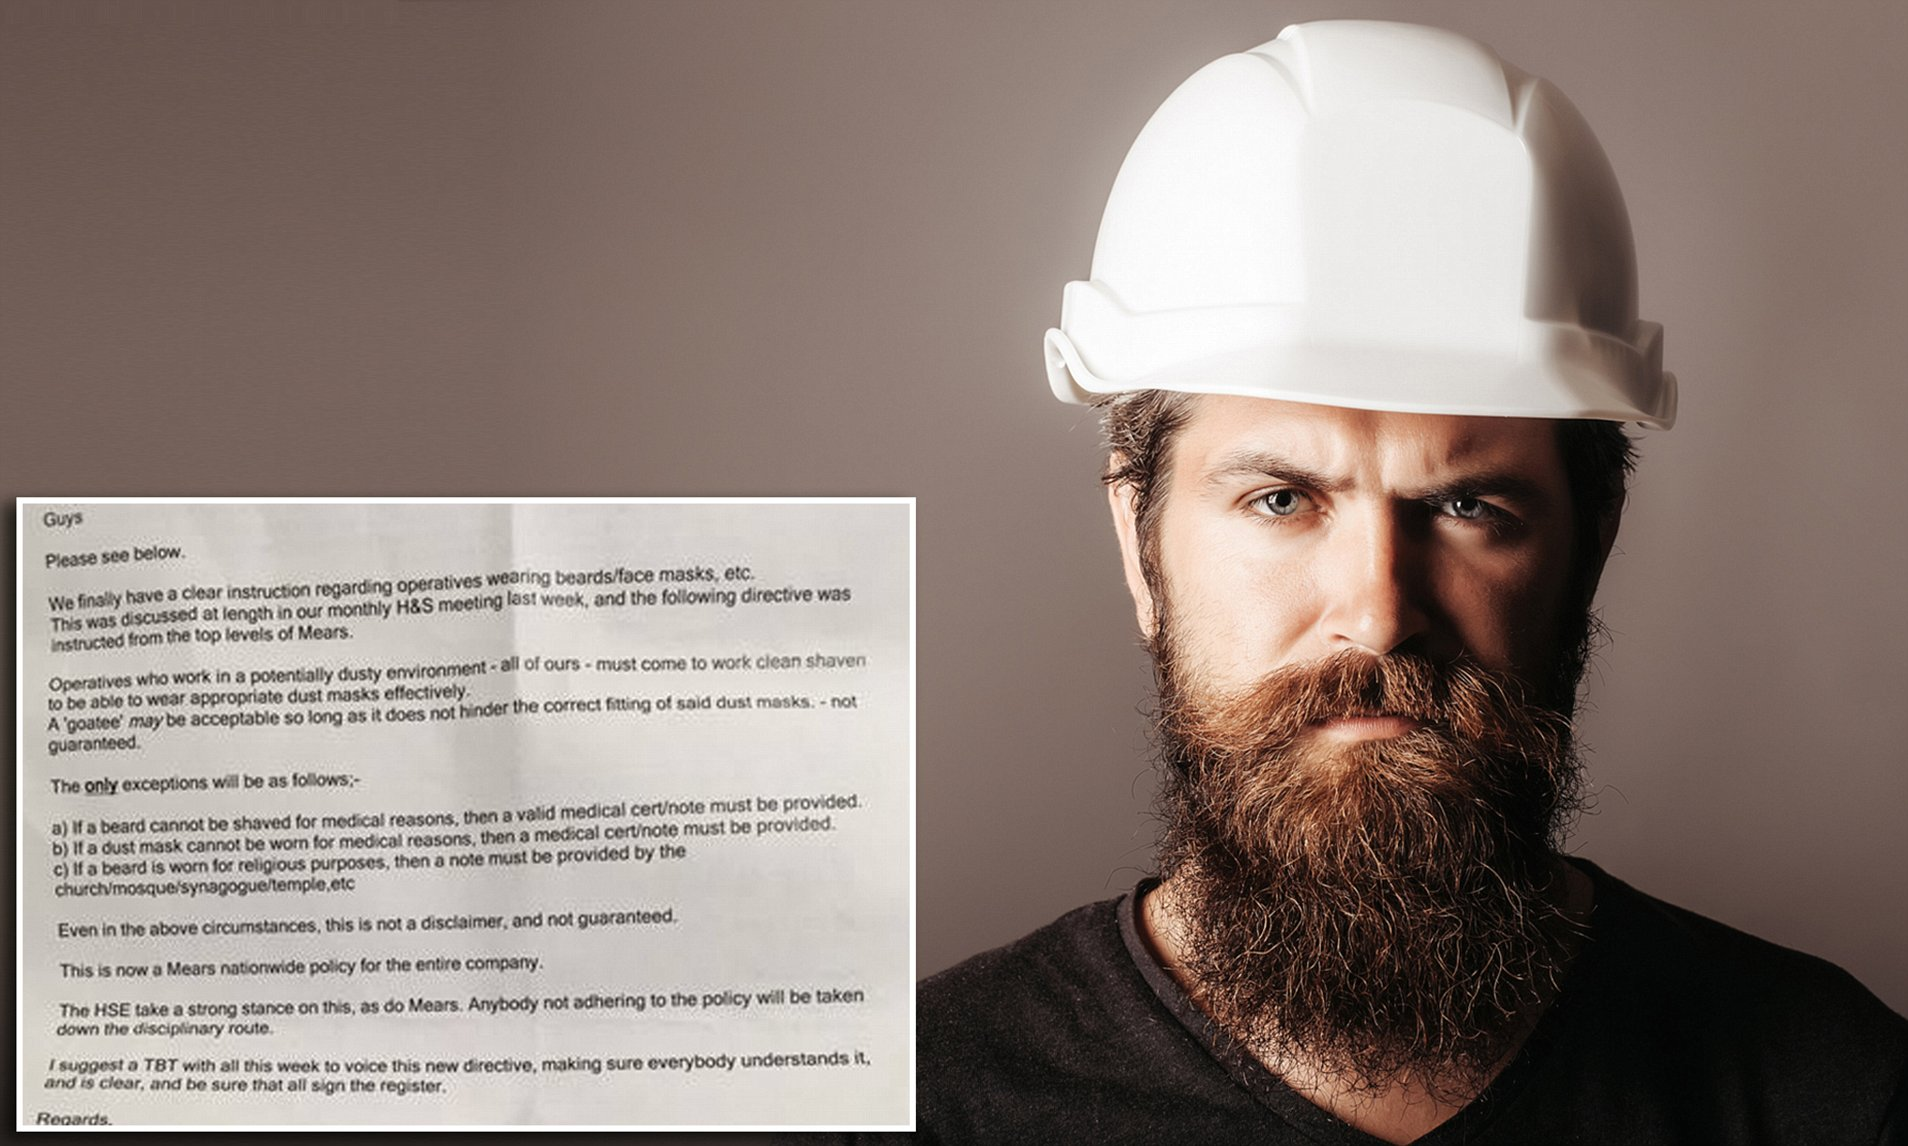Helmet: (1038, 15, 1690, 437)
